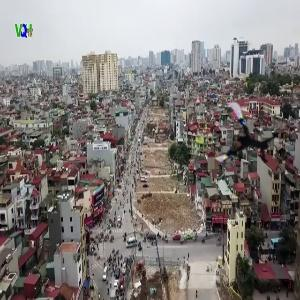drone: (210, 106, 282, 178)
